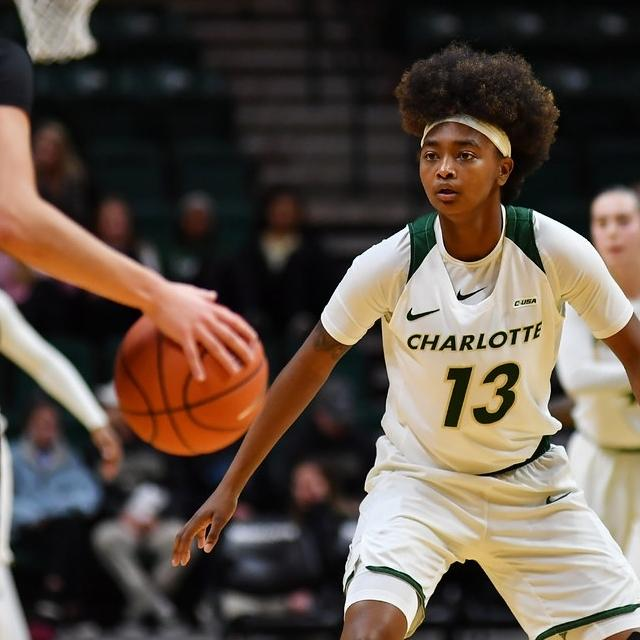basketball: (110, 306, 270, 456)
